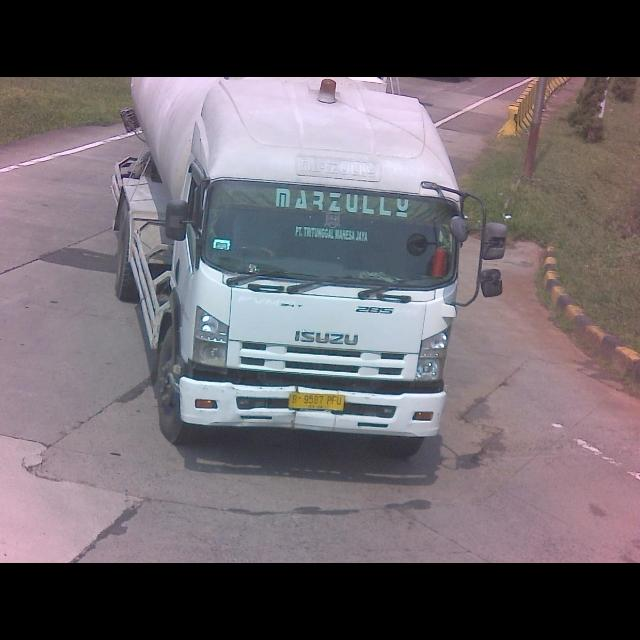plate: (288, 390, 348, 412)
